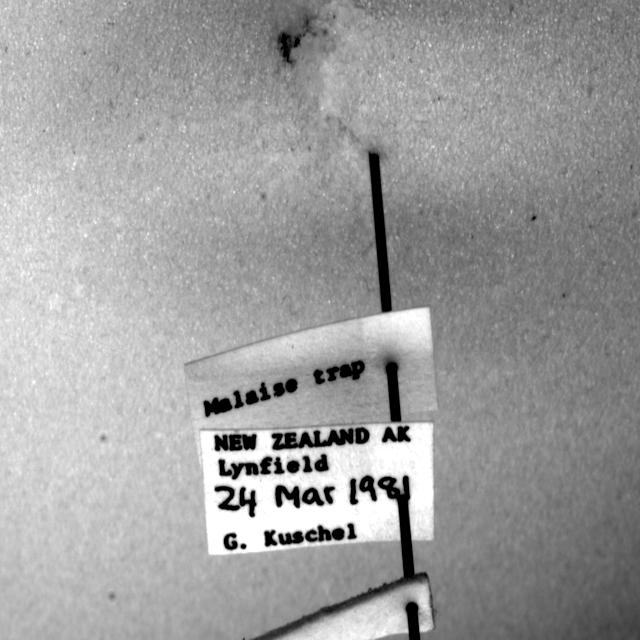mixed_label: (200, 422, 434, 555)
typed_label: (185, 308, 438, 456)
